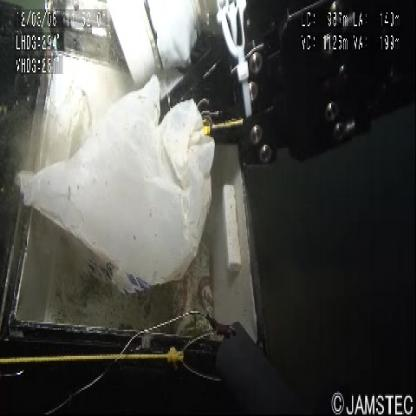Rov: (37, 3, 416, 168), (1, 3, 39, 119)
Rác: (15, 68, 222, 316)
